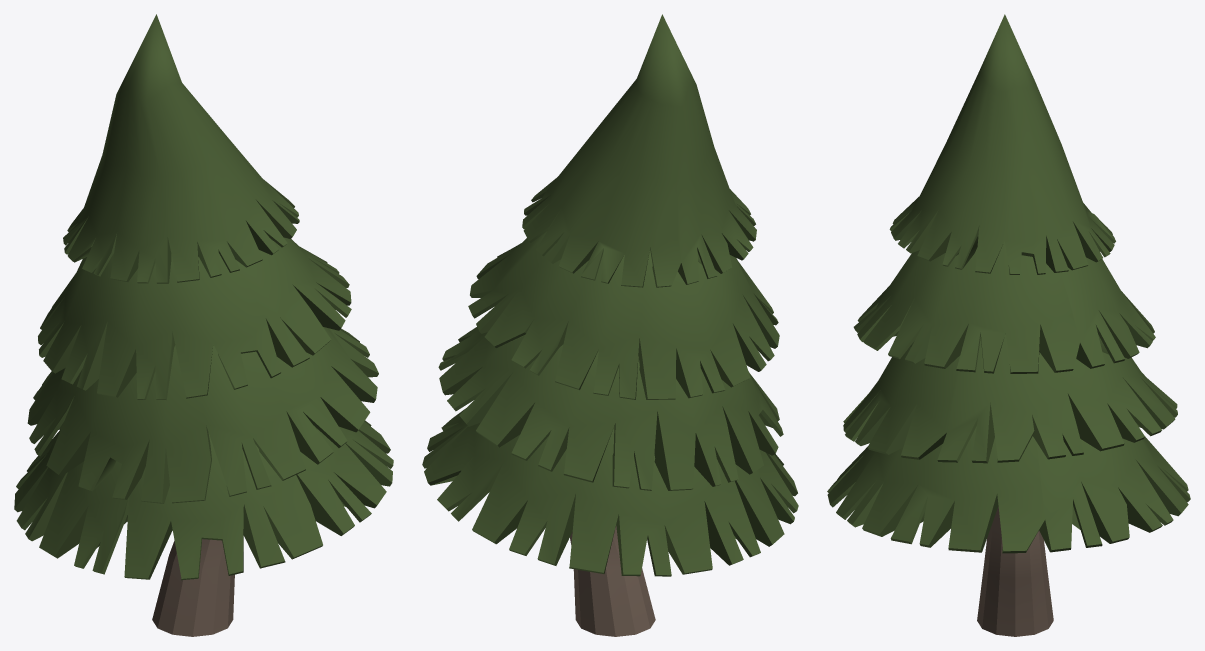
The model's file is DennenboomHoog3.fbx.
3 views of the same model, side by side, from view 1: azimuth 30°, elevation 25°; view 2: azimuth 150°, elevation 25°; view 3: azimuth 270°, elevation 25° (orthographic). The views are drawn at different scales.
Parts seen in each view (by area): view 1: polySurface3184; view 2: polySurface3184; view 3: polySurface3184.
Boxes of the visible parts, <box> form: polySurface3184: <box>14,14,393,636</box>; polySurface3184: <box>422,14,798,636</box>; polySurface3184: <box>827,14,1190,636</box>.
Bounding box in the file's own units: 6.36 × 11.46 × 6.43.
